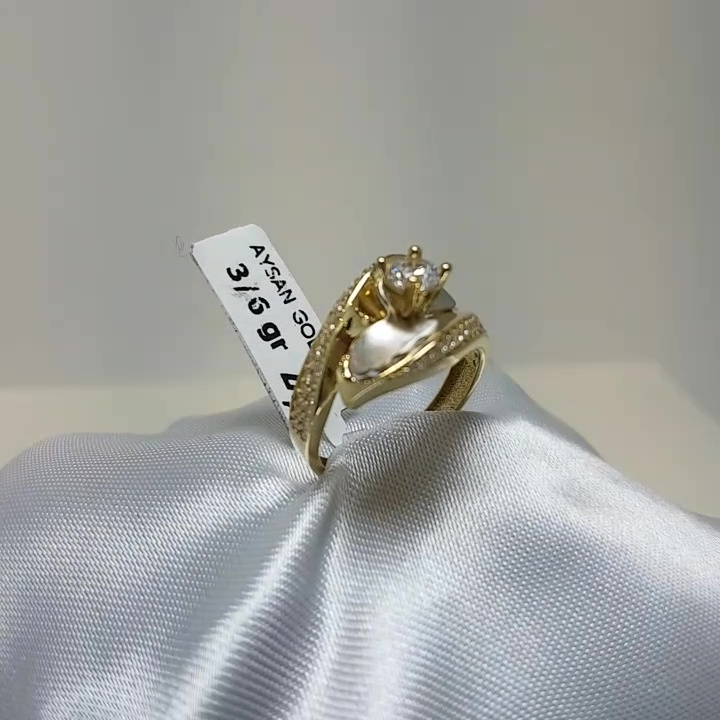Ring 6: (249, 229, 523, 495)
